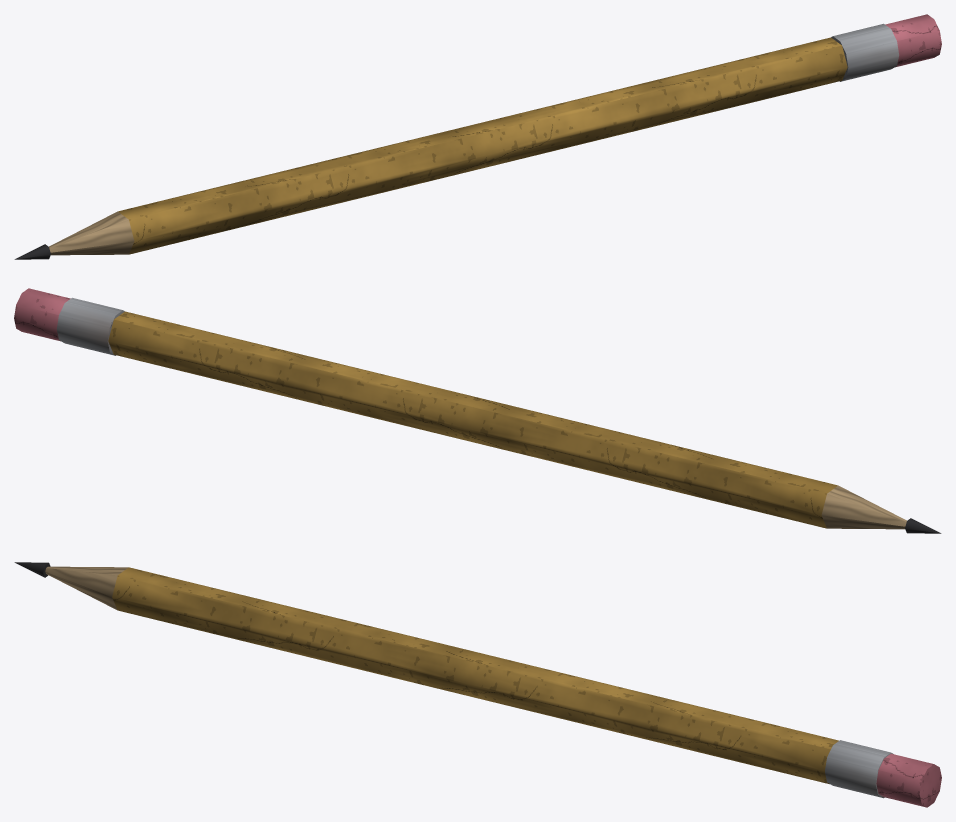
File: pencil.glb
3 renders of one model, top to bottom at view 1: azimuth 30°, elevation 25°; view 2: azimuth 150°, elevation 25°; view 3: azimuth 330°, elevation 25°, orthographic.
Parts seen in each view (by area): view 1: group_0; view 2: group_0; view 3: group_0.
Boxes of the visible parts, x1,y1,x2,y2 form: group_0: (14,14,941,259); group_0: (14,288,941,533); group_0: (14,562,941,807).
Size of the model in its own units: 17.99 by 0.7589 by 0.798.
5 materials, 5 textured.
